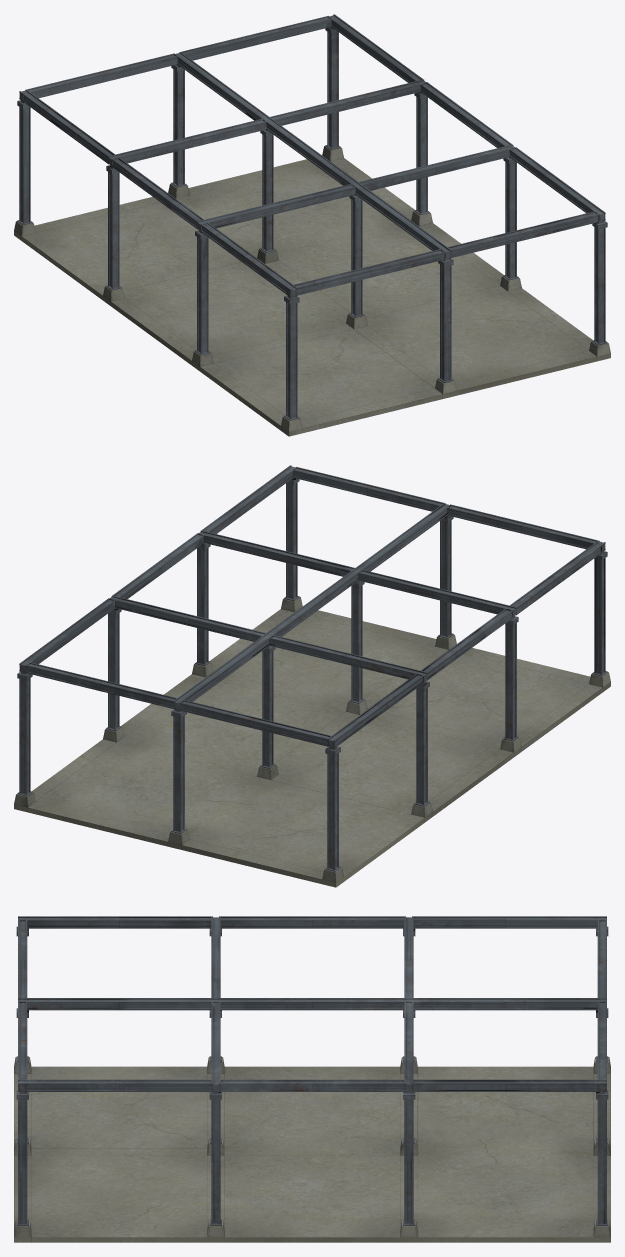
Rendered from construction_prop.glb.
3 renders of one model, top to bottom at view 1: azimuth 30°, elevation 25°; view 2: azimuth 150°, elevation 25°; view 3: azimuth 270°, elevation 25°, orthographic. The views are drawn at different scales.
Visible parts, largest first — view 1: Object_2, Object_3; view 2: Object_2, Object_3; view 3: Object_2, Object_3.
Boxes of the visible parts, x1=… form: Object_2: x1=14, y1=146, x2=610, y2=436; Object_3: x1=17, y1=14, x2=607, y2=420; Object_2: x1=14, y1=597, x2=610, y2=887; Object_3: x1=17, y1=465, x2=607, y2=871; Object_2: x1=14, y1=1057, x2=610, y2=1242; Object_3: x1=16, y1=916, x2=608, y2=1225.
Bounding box in the file's own units: 8.92 × 3.83 × 13.19.
1 material, 1 textured.
